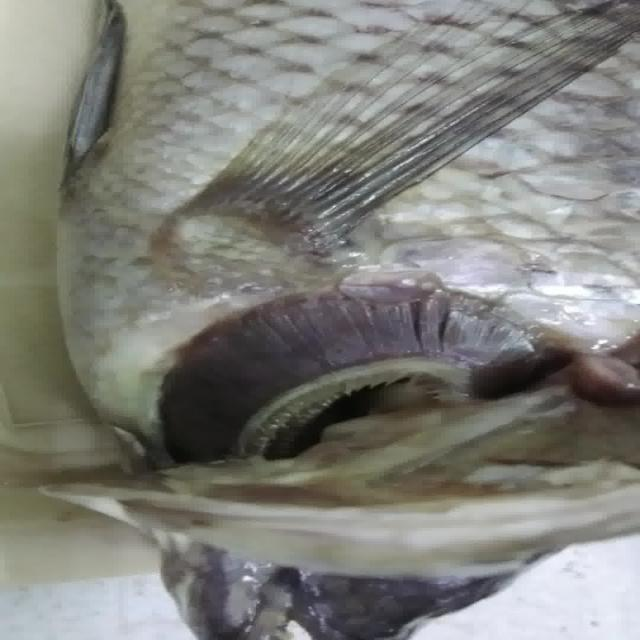Non-Fresh: (154, 273, 561, 460)
